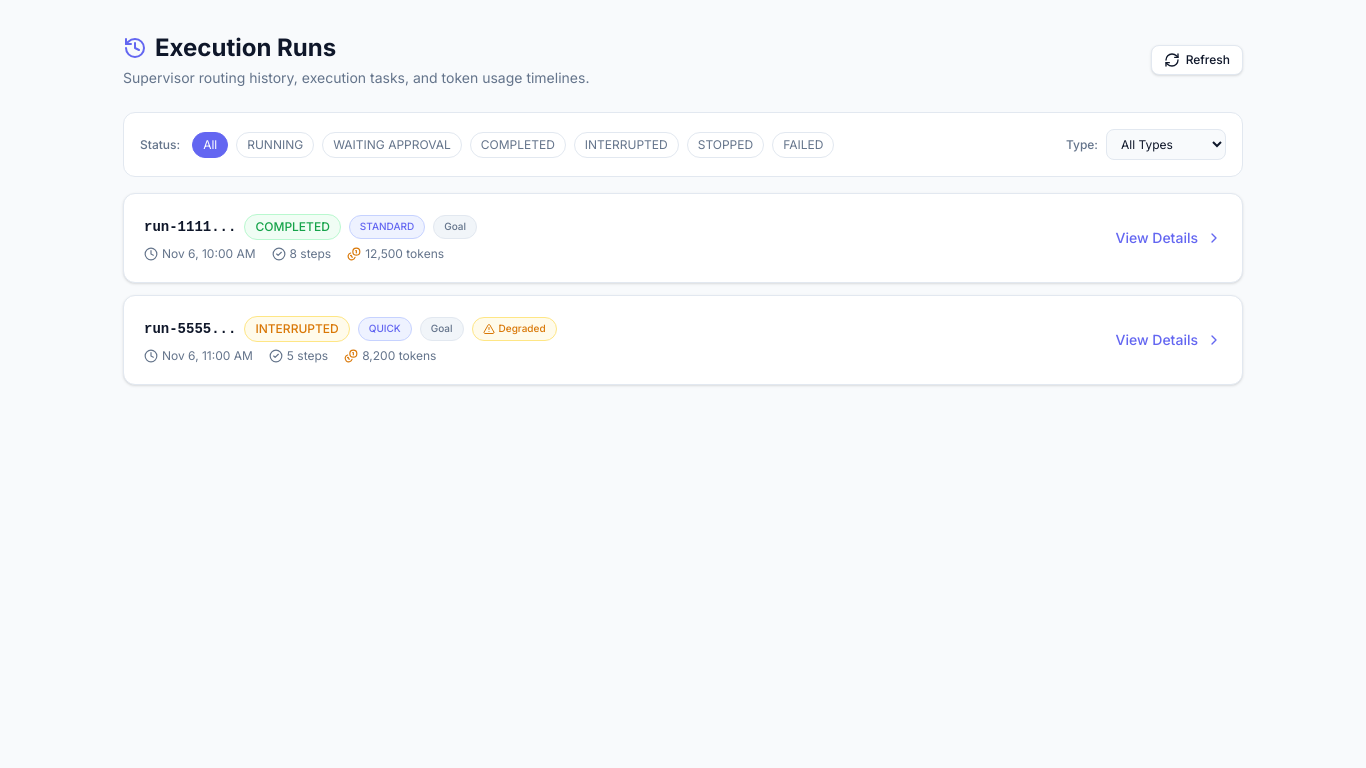
RunsScreen › selects a run and displays run details, degraded notice, tasks, and routing timeline
Expected: the text "run-5555..." is shown, [144,319,236,339]
Click the text "run-5555...".
click(683, 340)  # box [123,295,1243,385]
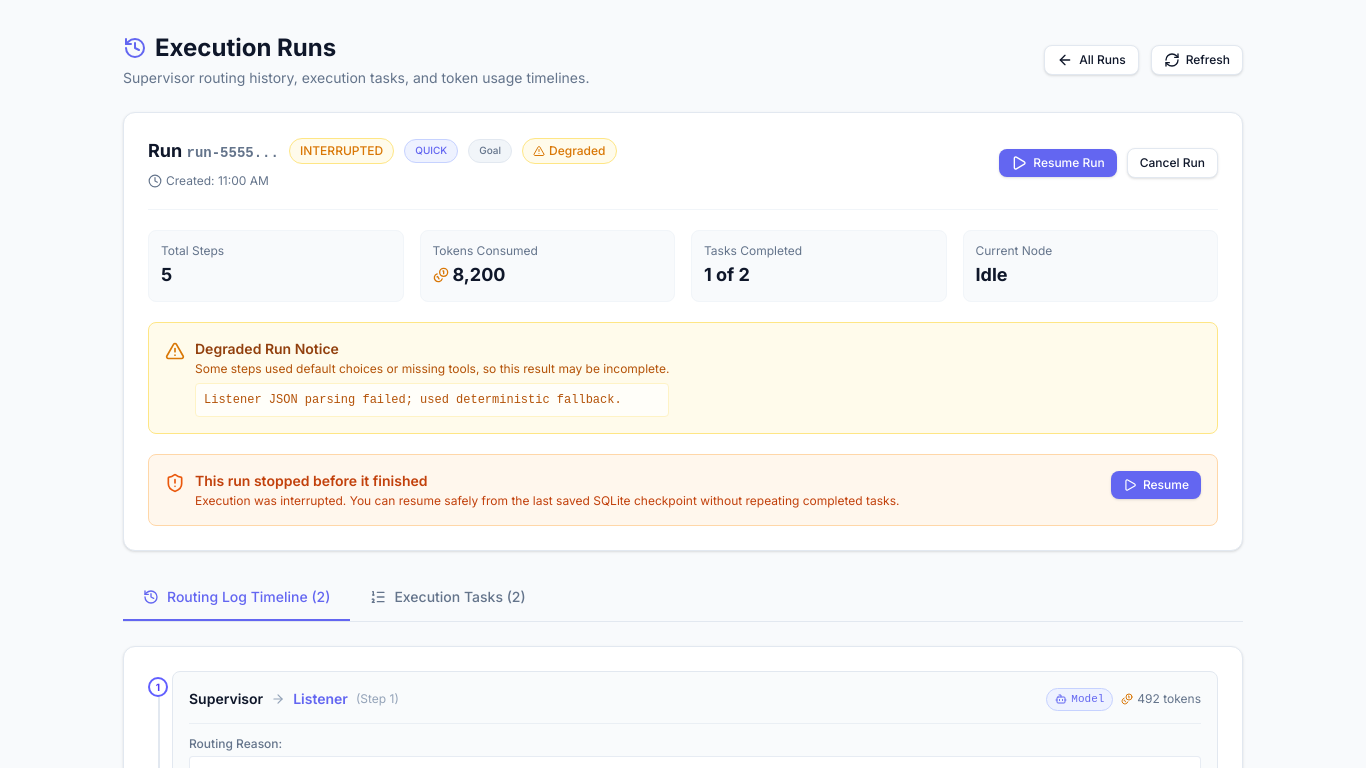
Now the text "Degraded Run Notice" is shown, box [195,340,339,357]
Now the text "Listener JSON parsing failed; used deterministic fallback." is shown, box [195,383,669,417]
Now the text "This run stopped before it finished" is shown, box [195,472,428,489]
// Switch to tasks tab
Click the button "Execution Tasks (2)".
click(448, 598)  # box [350,575,546,621]
(page scrolled)
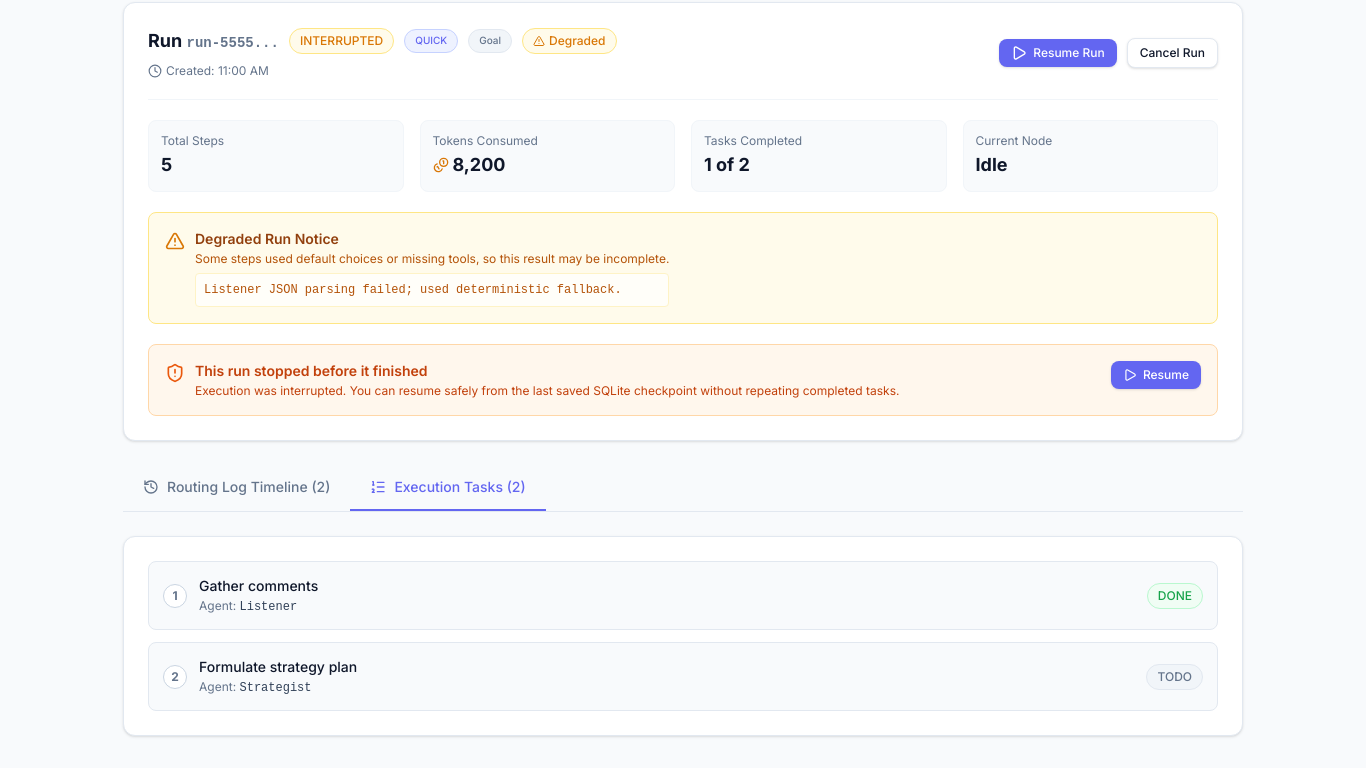
Now the text "Gather comments" is shown, box [199,576,318,596]
Now the text "Formulate strategy plan" is shown, box [199,657,357,677]
Now the text "TODO" is shown, box [1146,664,1203,690]
